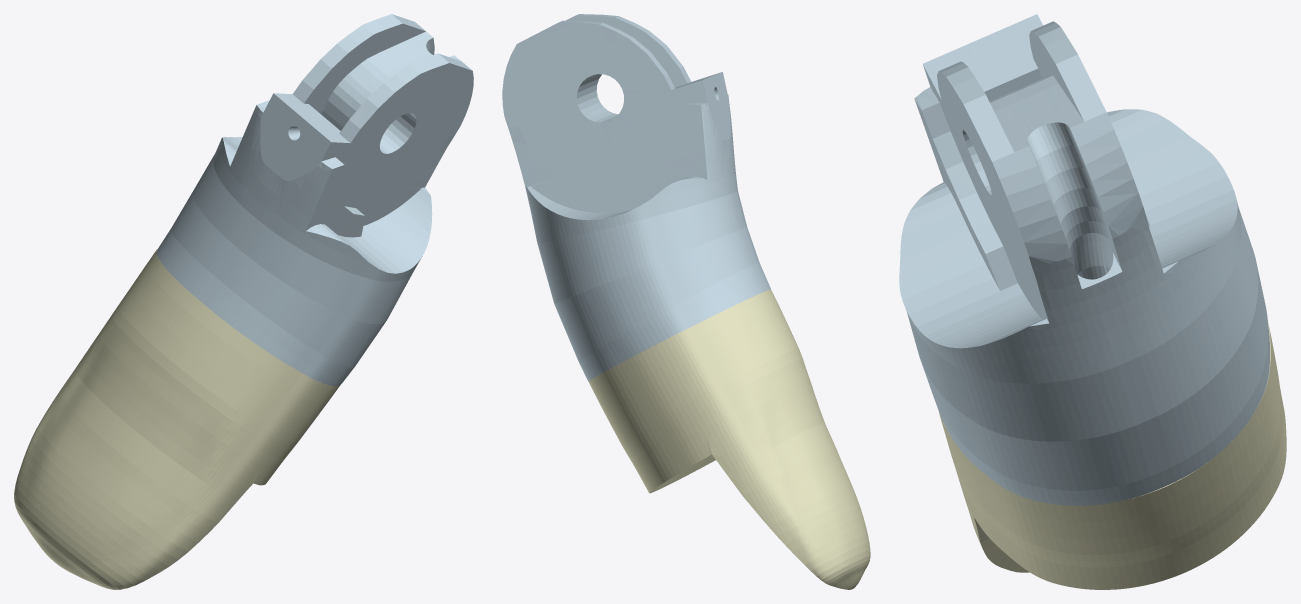
The model's file is i02_rightHand_ThumbTip_visual.obj.full.glb.
3 renders of one model, left to right at view 1: azimuth 30°, elevation 25°; view 2: azimuth 150°, elevation 25°; view 3: azimuth 270°, elevation 25°, orthographic. The views are drawn at different scales.
Size of the model in its own units: 0.3346 by 0.4094 by 0.1975.
